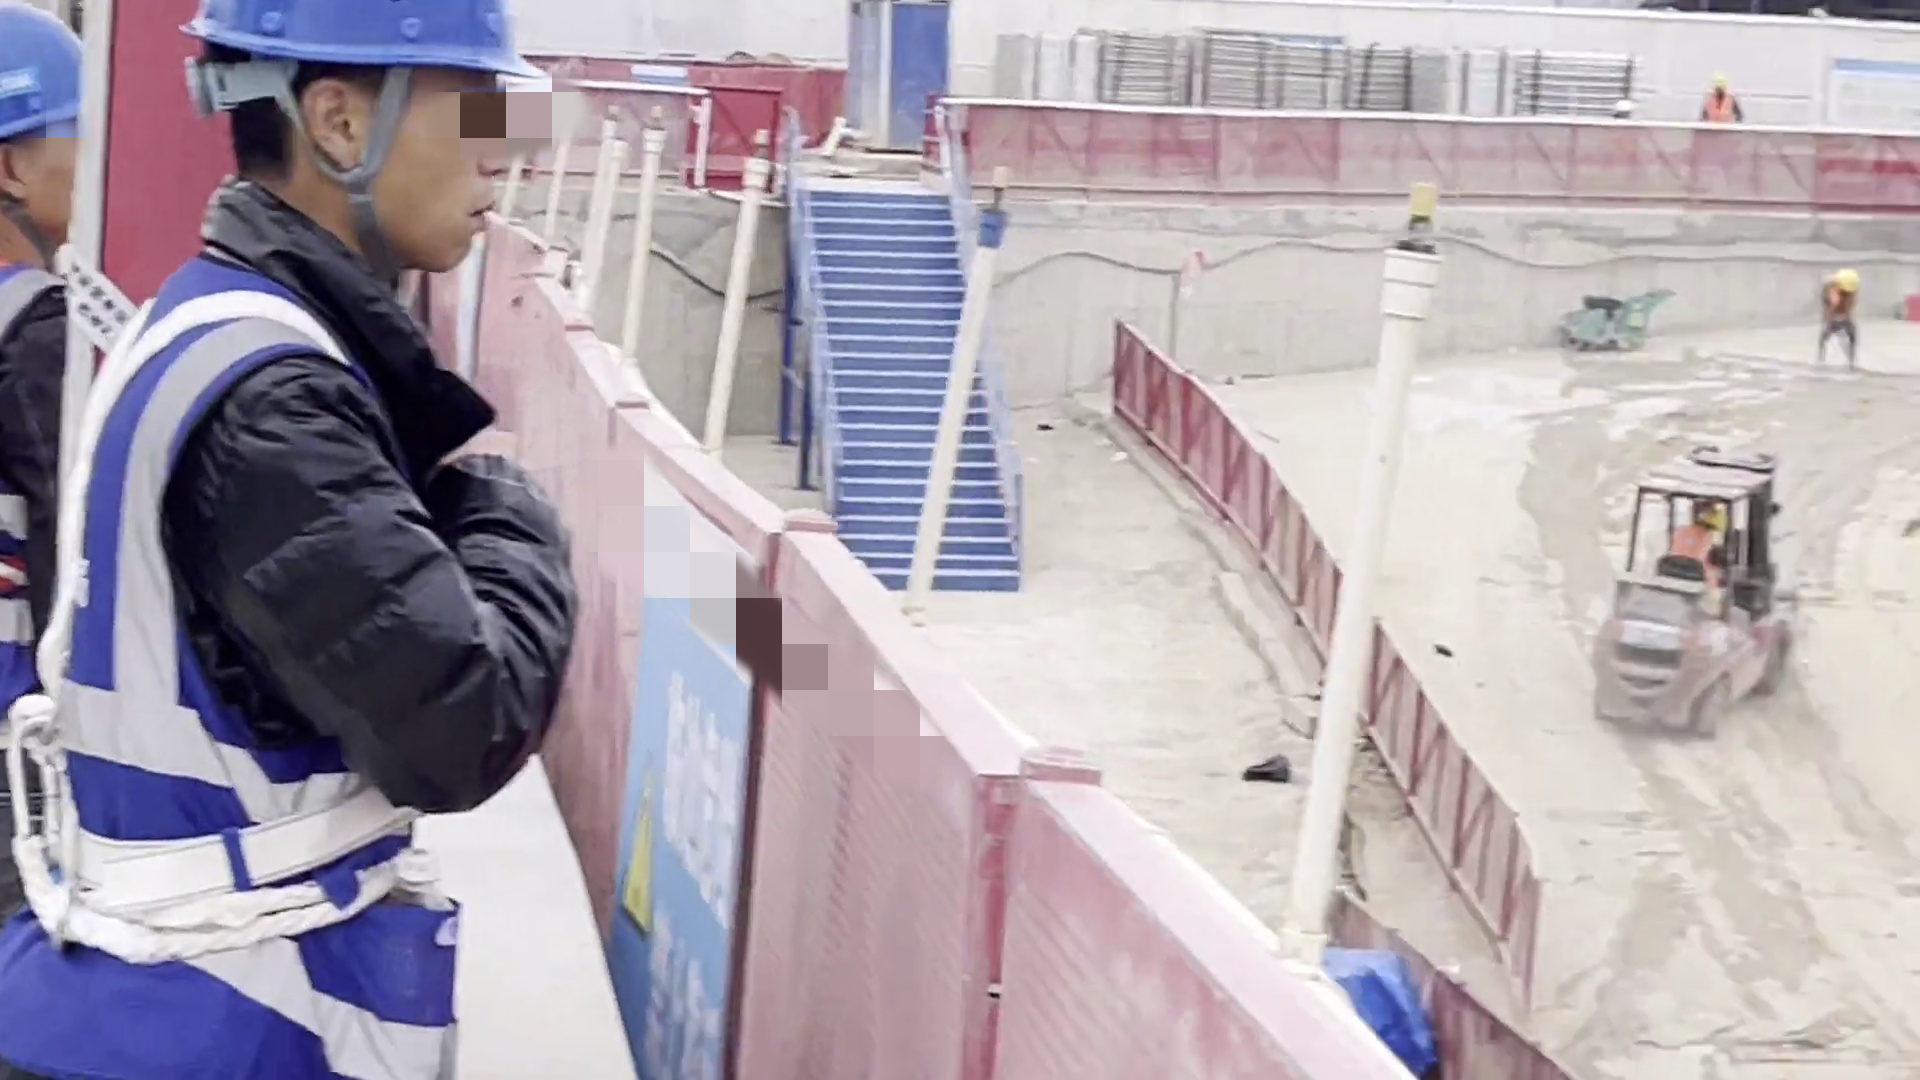fence: (416, 206, 1329, 1043), (1068, 258, 1566, 973), (943, 110, 1920, 250)
helmet: (158, 1, 564, 100), (1, 2, 116, 116), (1703, 502, 1745, 539), (1828, 270, 1858, 287)
person: (27, 1, 621, 1080), (11, 8, 120, 672), (1649, 501, 1732, 600), (1801, 260, 1873, 374), (1701, 70, 1756, 136)
scaffold: (1515, 43, 1641, 131), (1101, 25, 1186, 114), (1345, 29, 1424, 118), (1281, 39, 1354, 128), (1197, 34, 1271, 116), (1434, 46, 1520, 114)
slogan: (630, 509, 753, 1080)
vest: (15, 242, 500, 1079), (1668, 517, 1735, 596), (1818, 287, 1871, 344)
